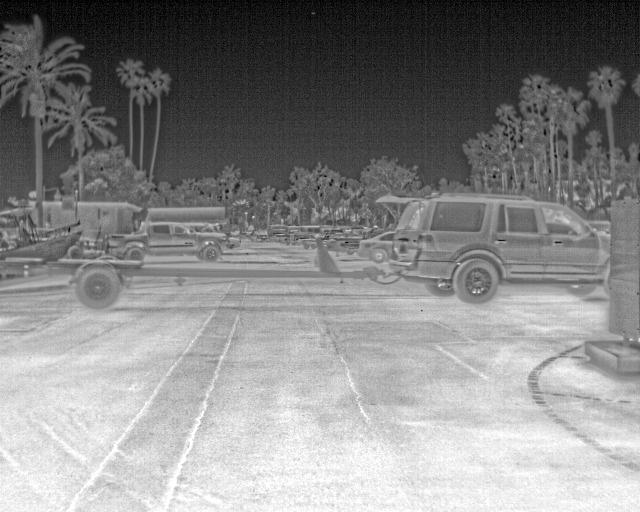bicycle: (389, 191, 612, 306), (108, 221, 227, 261), (356, 232, 395, 262), (193, 230, 242, 248)
